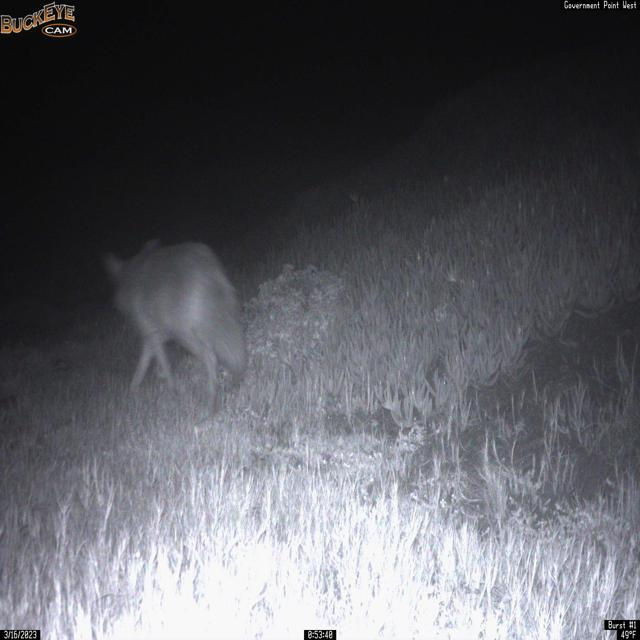coyote: (100, 235, 249, 419)
